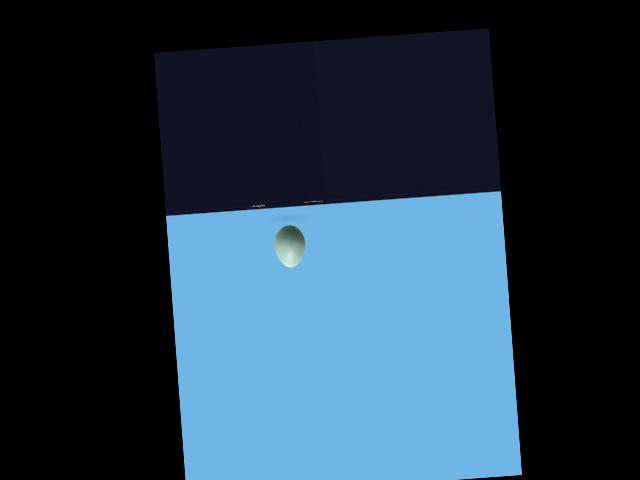egg: (273, 224, 307, 268)
